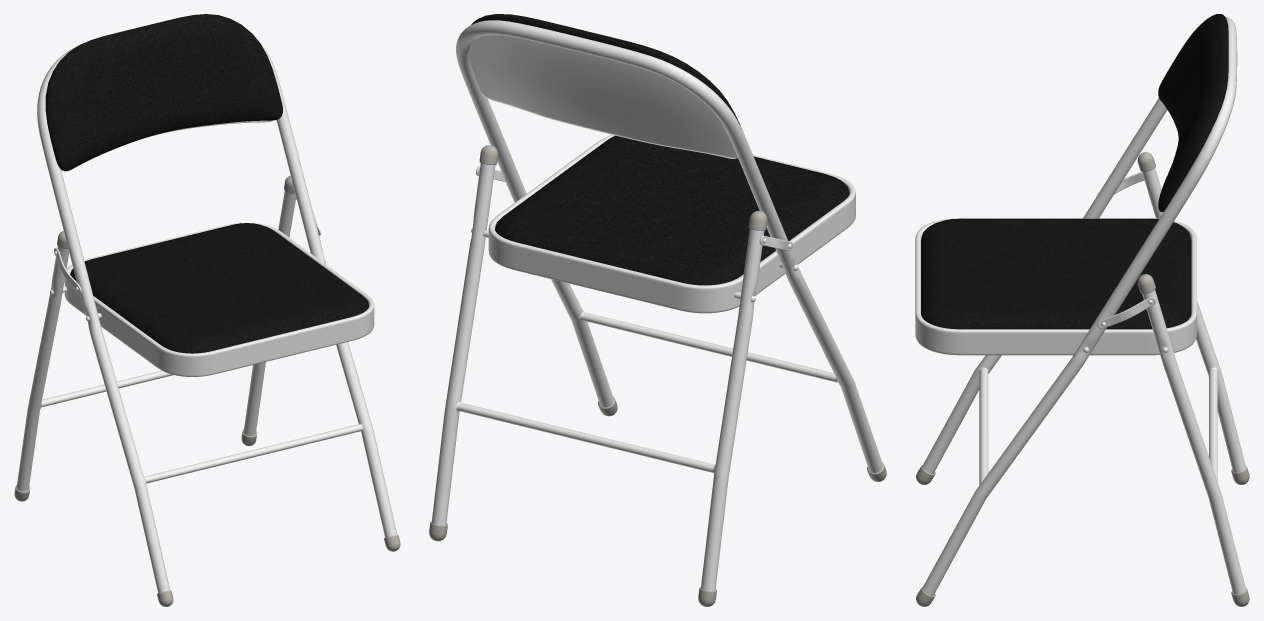
File: folding_chair.glb
3 views of the same model, side by side, from view 1: azimuth 30°, elevation 25°; view 2: azimuth 150°, elevation 25°; view 3: azimuth 270°, elevation 25° (orthographic). The views are drawn at different scales.
Visible parts, largest first — view 1: SM_Folding_Chair_Body; view 2: SM_Folding_Chair_Body; view 3: SM_Folding_Chair_Body.
Part boxes in pixels (left/top/right/bottom): SM_Folding_Chair_Body: left=14, top=14, right=400, bottom=606; SM_Folding_Chair_Body: left=429, top=14, right=886, bottom=606; SM_Folding_Chair_Body: left=915, top=14, right=1249, bottom=606.
Bounding box in the file's own units: 0.4724 × 0.8253 × 0.5029.
1 material, 1 textured.
